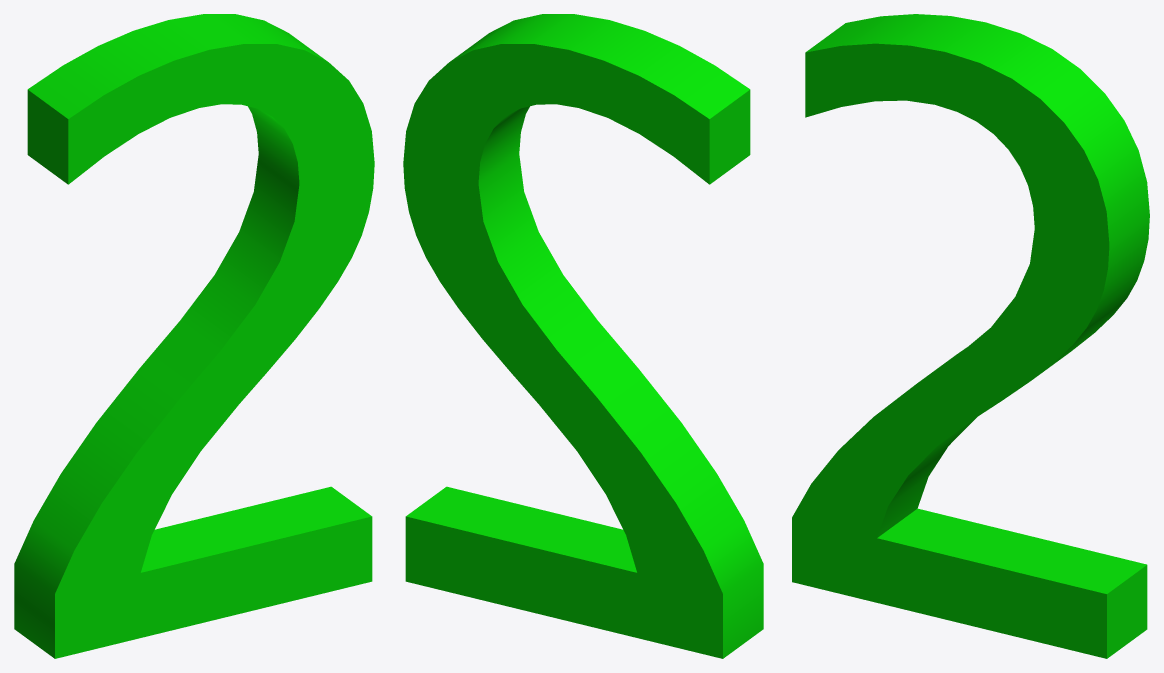
The model's file is iki.fbx.
3 renders of one model, left to right at view 1: azimuth 30°, elevation 25°; view 2: azimuth 150°, elevation 25°; view 3: azimuth 330°, elevation 25°, orthographic.
Parts seen in each view (by area): view 1: typeMesh1; view 2: typeMesh1; view 3: typeMesh1.
Part boxes in pixels (x1=…): typeMesh1: x1=14, y1=14, x2=374, y2=658; typeMesh1: x1=403, y1=14, x2=763, y2=658; typeMesh1: x1=792, y1=14, x2=1149, y2=658.
Bounding box in the file's own units: 6.63 × 11.33 × 1.46.
